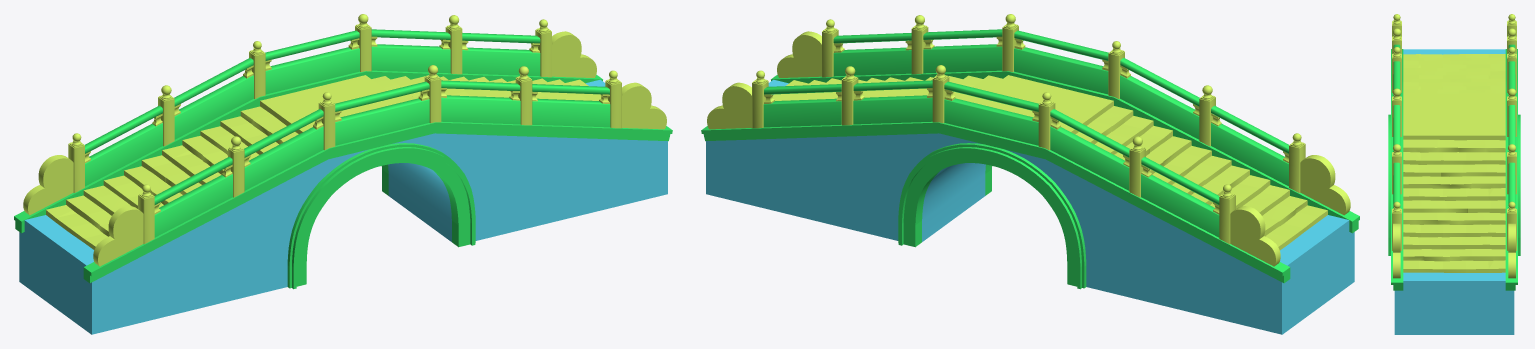
File: Bridge.FBX
The picture shows the model from 3 angles, left to right: view 1: azimuth 30°, elevation 25°; view 2: azimuth 150°, elevation 25°; view 3: azimuth 270°, elevation 25°; orthographic projection. The views are drawn at different scales.
Visible parts, largest first — view 1: Geometry_Garden_Bridge_A_LOD00; view 2: Geometry_Garden_Bridge_A_LOD00; view 3: Geometry_Garden_Bridge_A_LOD00.
Boxes of the visible parts, bbox=[...] form: Geometry_Garden_Bridge_A_LOD00: bbox=[14, 14, 672, 334]; Geometry_Garden_Bridge_A_LOD00: bbox=[701, 14, 1359, 334]; Geometry_Garden_Bridge_A_LOD00: bbox=[1388, 14, 1520, 334].
Size of what is drawn, in the model's own units: 1281 by 389 by 306.
